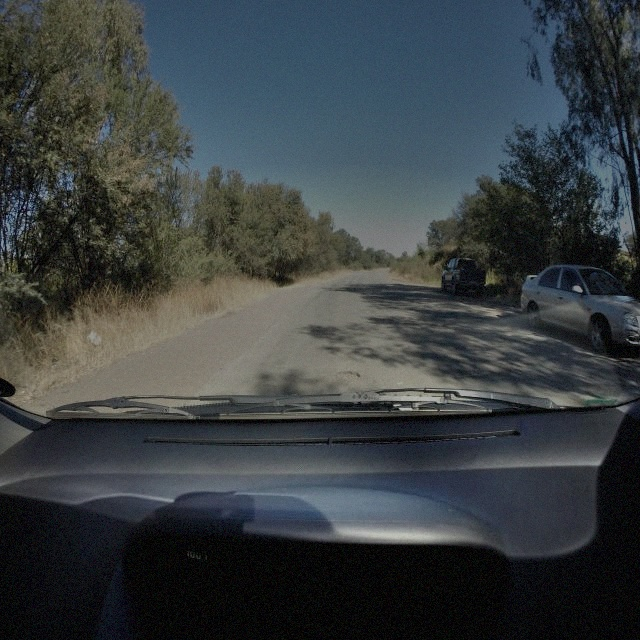pothole: (337, 368, 360, 383)
